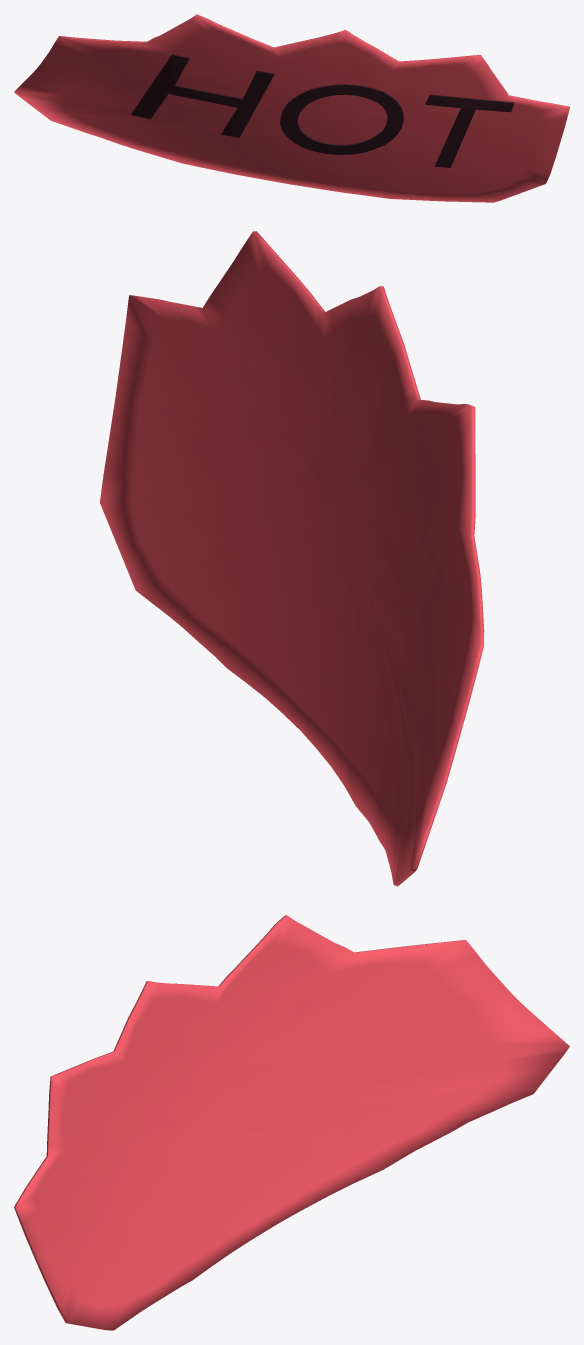
The model's file is Feminine-extra.glb.
3 renders of one model, top to bottom at view 1: azimuth 30°, elevation 25°; view 2: azimuth 150°, elevation 25°; view 3: azimuth 270°, elevation 25°, orthographic. The views are drawn at different scales.
Parts seen in each view (by area): view 1: HOT / seated badge211, HOT / lettering211; view 2: HOT / seated badge211; view 3: HOT / seated badge211.
Part boxes in pixels (x1,y1,x2,y2): HOT / seated badge211: (14,14,569,202); HOT / lettering211: (130,54,514,167); HOT / seated badge211: (100,231,484,886); HOT / seated badge211: (14,915,569,1330).
Bounding box in the file's own units: 0.1773 × 0.0953 × 0.182.
